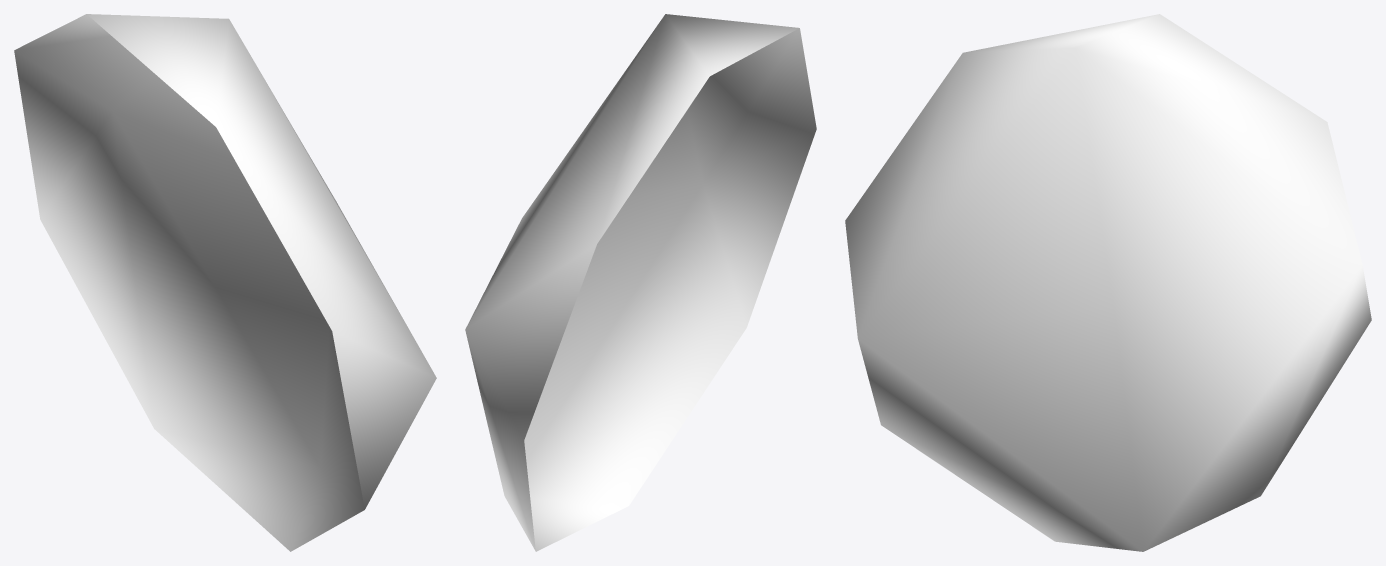
3 views of the same model, side by side, from view 1: azimuth 30°, elevation 25°; view 2: azimuth 150°, elevation 25°; view 3: azimuth 270°, elevation 25° (orthographic). The views are drawn at different scales.
Bounding box in the file's own units: 0.0344 × 0.0784 × 0.0792.
1 material, 1 textured.
